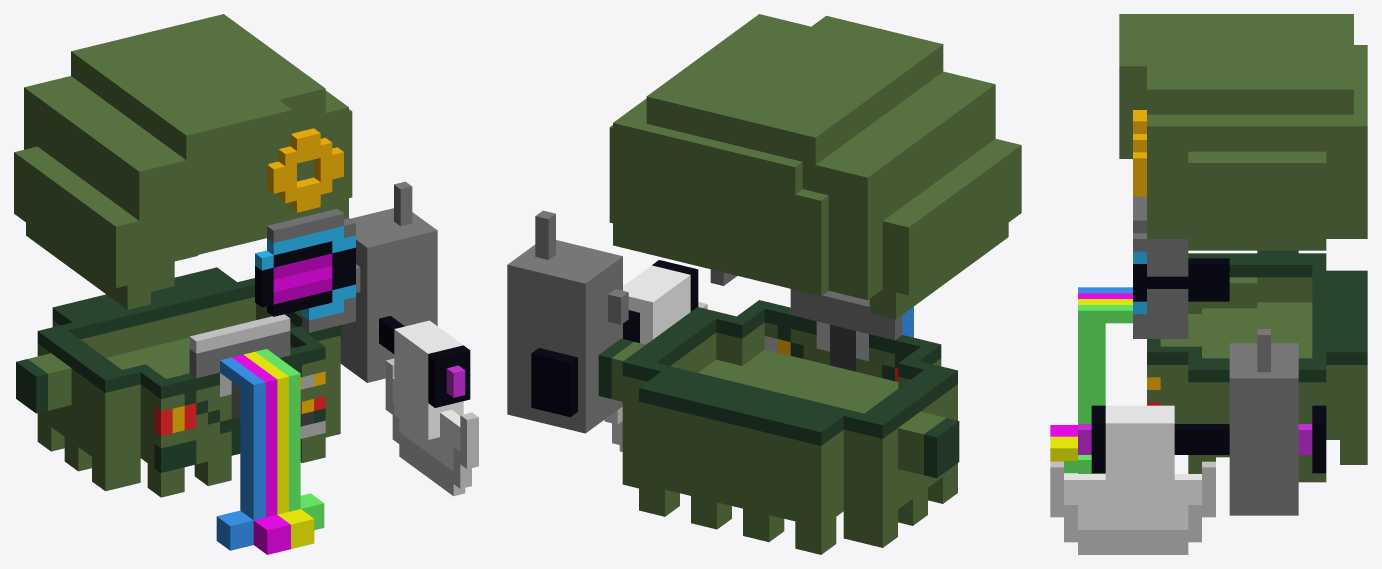
The model's file is wearables.fbx.
3 renders of one model, left to right at view 1: azimuth 30°, elevation 25°; view 2: azimuth 150°, elevation 25°; view 3: azimuth 270°, elevation 25°, orthographic. The views are drawn at different scales.
Parts seen in each view (by area): view 1: sergeant hat, sergeant suit, rainbow vomit, portal mage axe, walkie, cyborg eye; view 2: sergeant hat, sergeant suit, walkie, portal mage axe, rainbow vomit; view 3: sergeant hat, sergeant suit, portal mage axe, walkie, cyborg eye, rainbow vomit.
Part boxes in pixels (x1=…): sergeant hat: x1=14, y1=14, x2=352, y2=309; sergeant suit: x1=16, y1=267, x2=341, y2=497; rainbow vomit: x1=189, y1=314, x2=324, y2=554; portal mage axe: x1=379, y1=316, x2=478, y2=496; walkie: x1=340, y1=181, x2=437, y2=382; cyborg eye: x1=255, y1=208, x2=355, y2=332; sergeant hat: x1=609, y1=14, x2=1021, y2=319; sergeant suit: x1=598, y1=300, x2=959, y2=554; walkie: x1=507, y1=210, x2=628, y2=433; portal mage axe: x1=531, y1=260, x2=707, y2=451; rainbow vomit: x1=790, y1=289, x2=913, y2=340; sergeant hat: x1=1119, y1=14, x2=1367, y2=250; sergeant suit: x1=1147, y1=250, x2=1367, y2=482; portal mage axe: x1=1050, y1=405, x2=1326, y2=554; walkie: x1=1229, y1=329, x2=1298, y2=515; cyborg eye: x1=1133, y1=196, x2=1229, y2=338; rainbow vomit: x1=1050, y1=287, x2=1132, y2=473.
Size of the model in its own units: 3.3 by 3.3 by 2.3.
6 materials, 5 textured.
